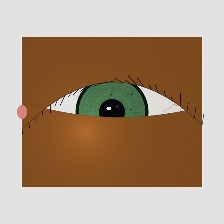pinguecula_lesion: (160, 102, 203, 136)
